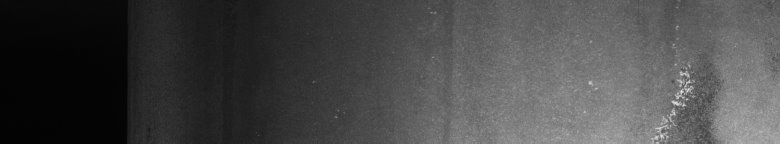hc: (589, 25, 711, 136)
